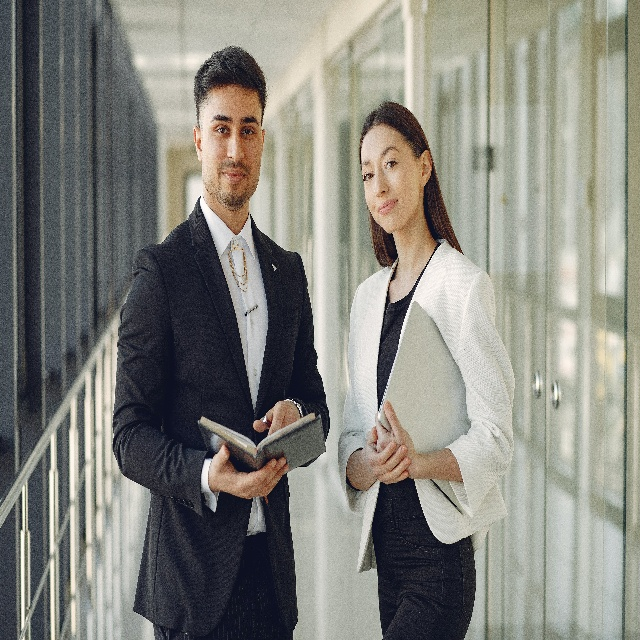Sin_guantes: (209, 444, 289, 500), (373, 399, 415, 481), (365, 424, 410, 486), (253, 399, 300, 441)
